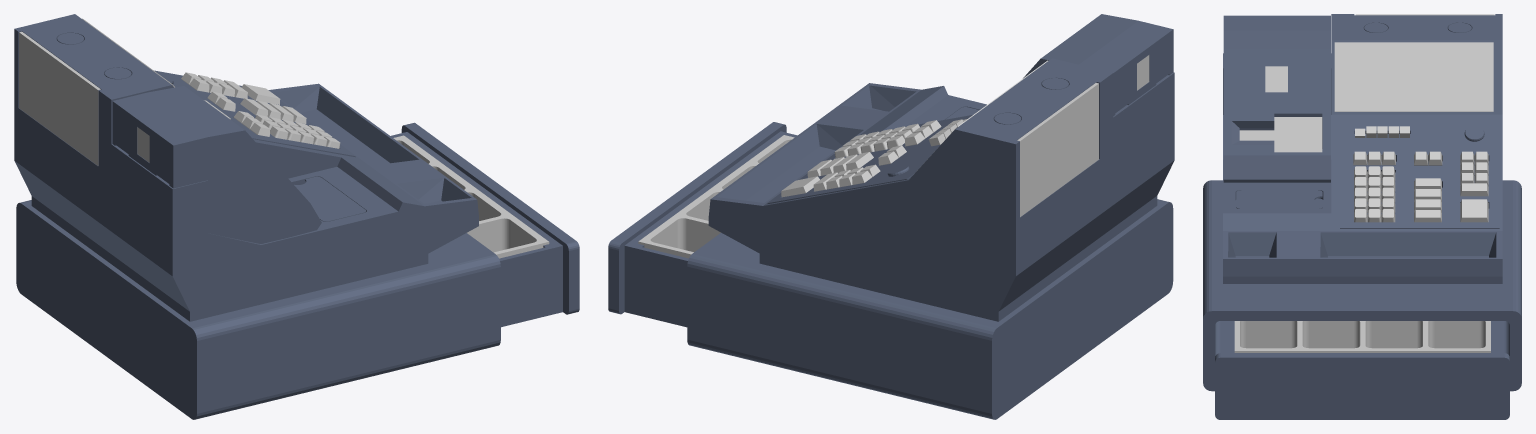
Rendered from cashregister.dae.
3 renders of one model, left to right at view 1: azimuth 30°, elevation 25°; view 2: azimuth 150°, elevation 25°; view 3: azimuth 270°, elevation 25°, orthographic. The views are drawn at different scales.
Visible parts, largest first — view 1: tillbody, base, receiptprinter, drawer, cointray, Circle_001, operationbuttons, calcbuttons, custombuttons; view 2: tillbody, base, drawer, receiptprinter, cointray, operationbuttons, calcbuttons, custombuttons; view 3: tillbody, drawer, base, receiptprinter, cointray, calcbuttons, operationbuttons, Circle_001, custombuttons, modebuttons, receiptbuttons, percentbuttons.
Part boxes in pixels (x1,y1,x2,y2): tillbody: (14, 14, 478, 321); base: (16, 200, 500, 419); receiptprinter: (112, 86, 321, 243); drawer: (391, 122, 579, 327); cointray: (393, 135, 549, 258); Circle_001: (294, 176, 365, 221); operationbuttons: (181, 72, 280, 104); calcbuttons: (255, 114, 340, 148); custombuttons: (240, 98, 306, 123); tillbody: (708, 58, 1174, 321); base: (687, 199, 1173, 419); drawer: (608, 122, 797, 327); receiptprinter: (1023, 14, 1173, 115); cointray: (638, 135, 794, 258); operationbuttons: (781, 164, 880, 197); calcbuttons: (834, 123, 920, 158); custombuttons: (807, 152, 873, 177); tillbody: (1223, 14, 1502, 283); drawer: (1215, 321, 1509, 419); base: (1203, 180, 1521, 391); receiptprinter: (1223, 15, 1330, 182); cointray: (1234, 321, 1490, 352); calcbuttons: (1354, 166, 1395, 222); operationbuttons: (1460, 151, 1488, 222); Circle_001: (1236, 190, 1322, 208); custombuttons: (1414, 178, 1441, 222); modebuttons: (1355, 126, 1409, 137); receiptbuttons: (1353, 151, 1395, 165); percentbuttons: (1414, 151, 1442, 165).
Bounding box in the file's own units: 3.31 × 2.58 × 2.15.
